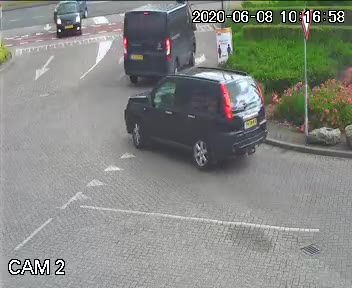car: (112, 64, 276, 173), (121, 1, 199, 89), (53, 0, 86, 39)
